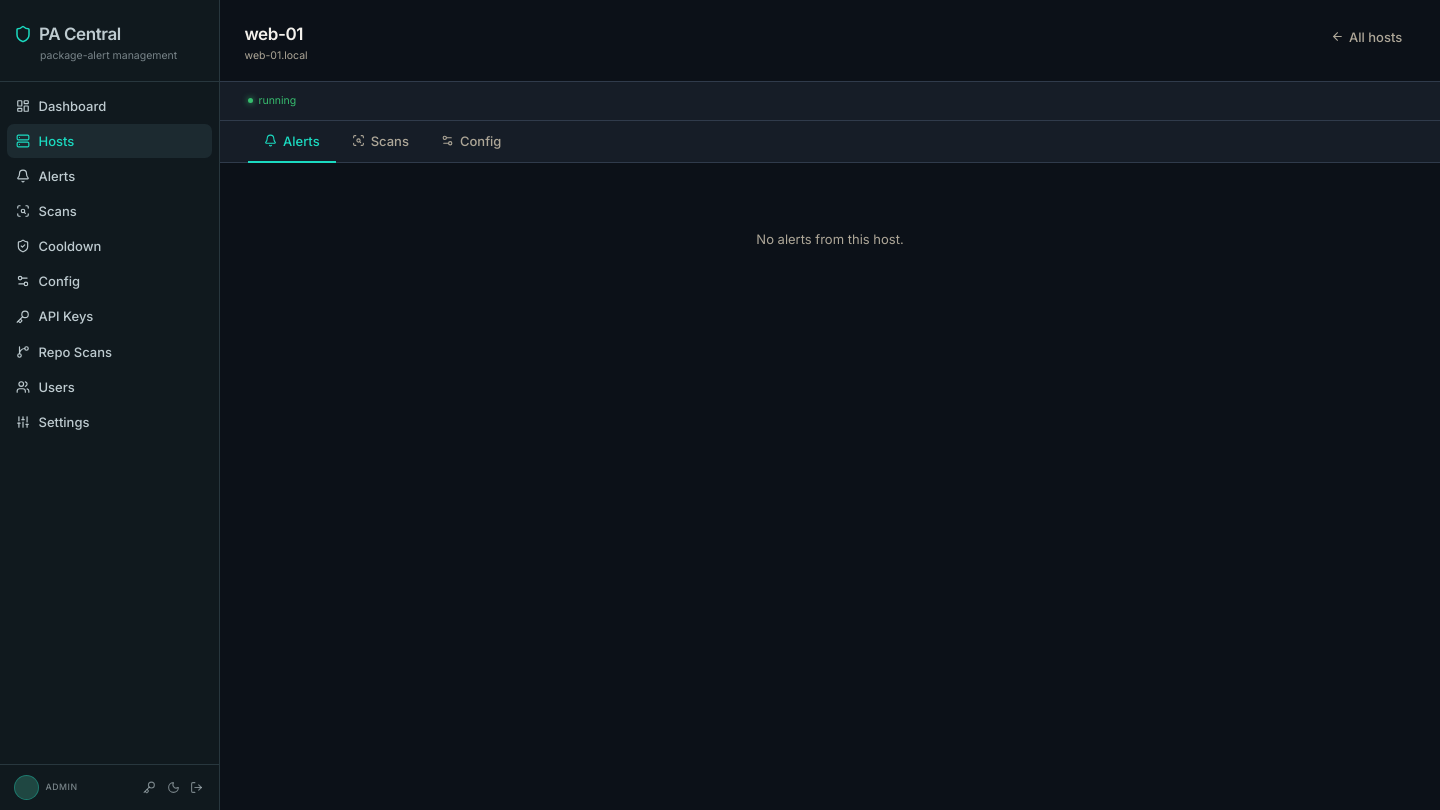
Scenario: HostDetail — tools scans › lists yanked versions, even with no tools listed
The image size is (1440, 810).
What coordinates should you click on to do the following:
click the tab "Scans"
I would click on:
 (380, 142)
Its box is left=336, top=121, right=425, bottom=163.
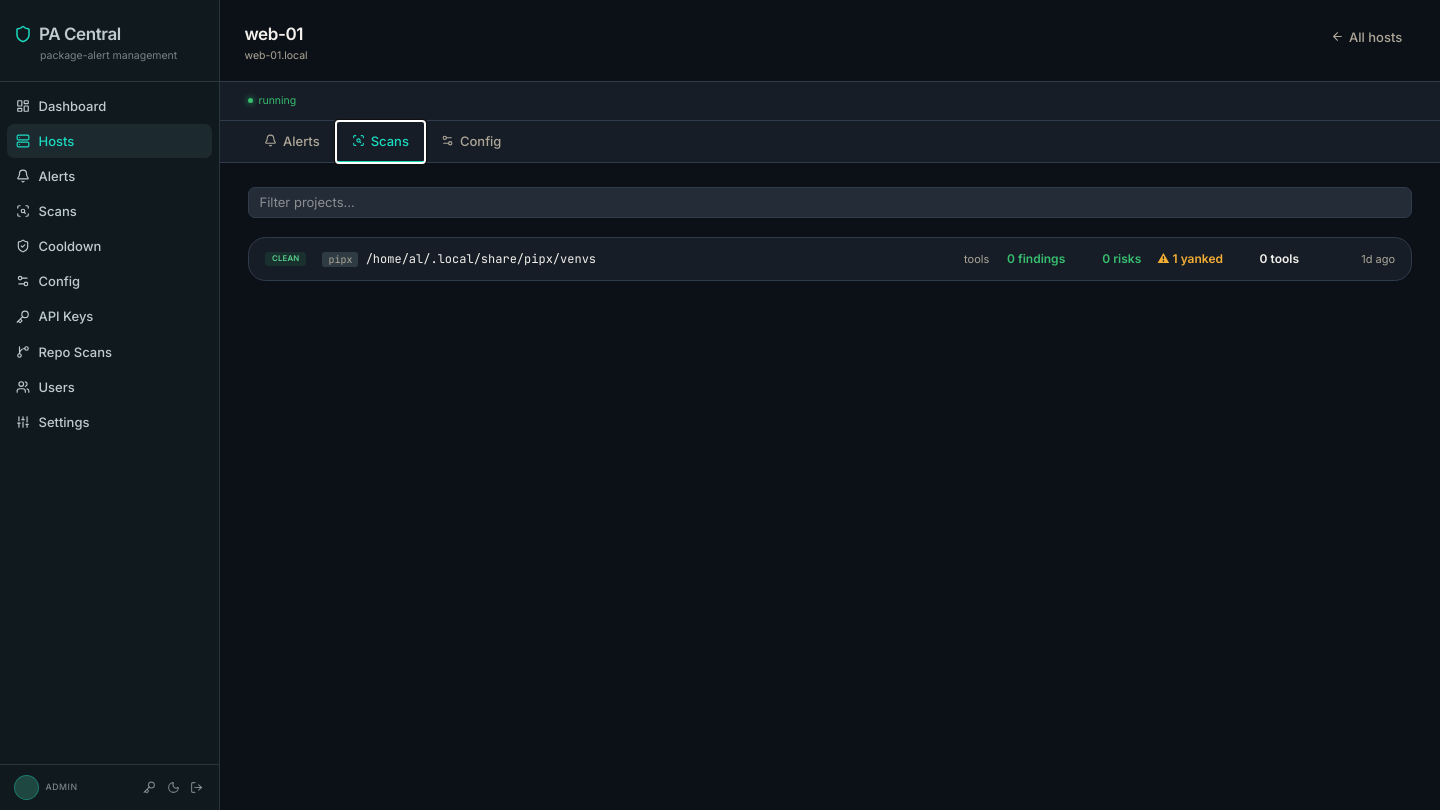
What coordinates should you click on to do the following:
click the button "/home/al/.local/share/pipx/venvs"
I would click on:
 (286, 259)
Its box is left=265, top=251, right=1395, bottom=267.
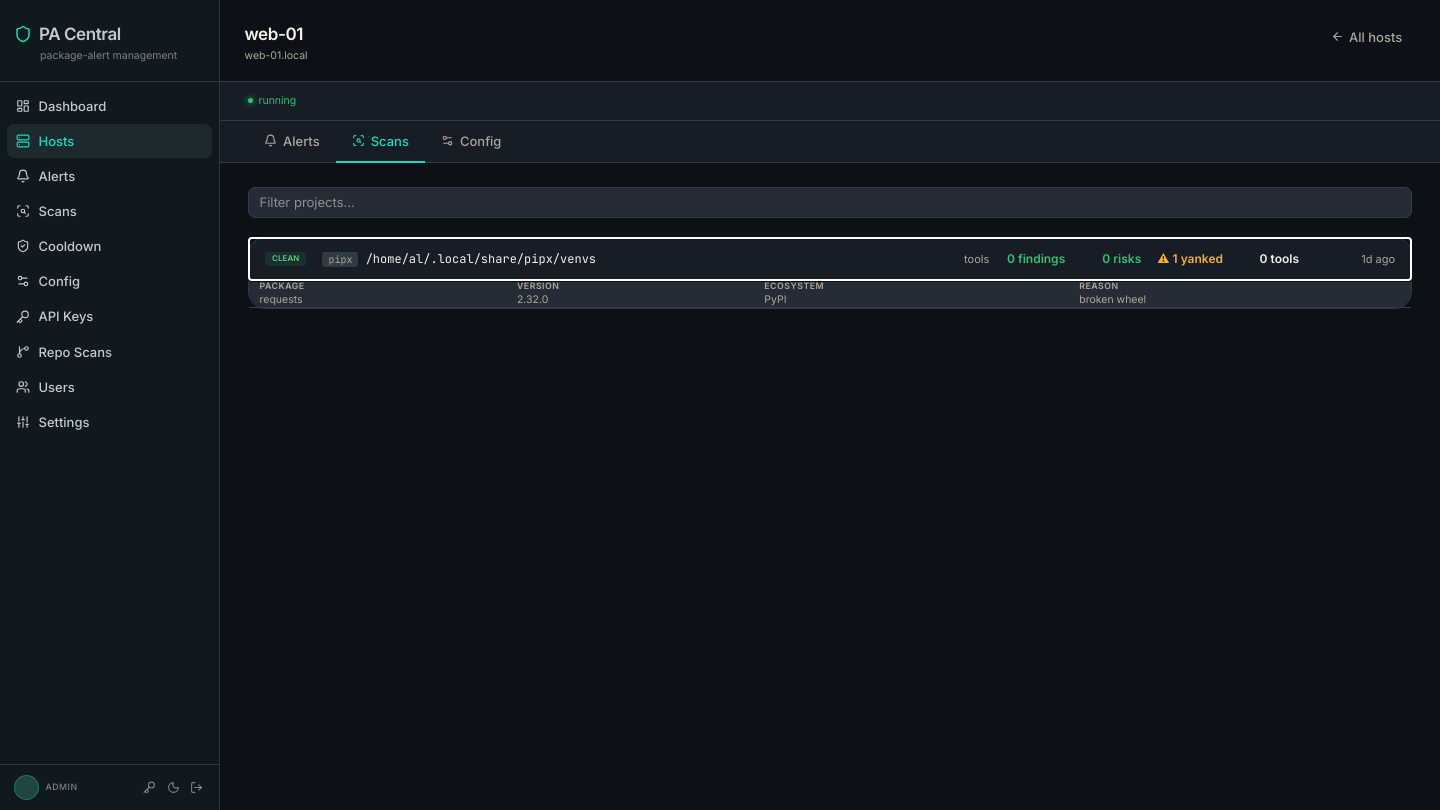
Expected: the text "requests" is shown, left=249, top=293, right=506, bottom=307
Expected: the text "broken wheel" is shown, left=1069, top=293, right=1411, bottom=307
